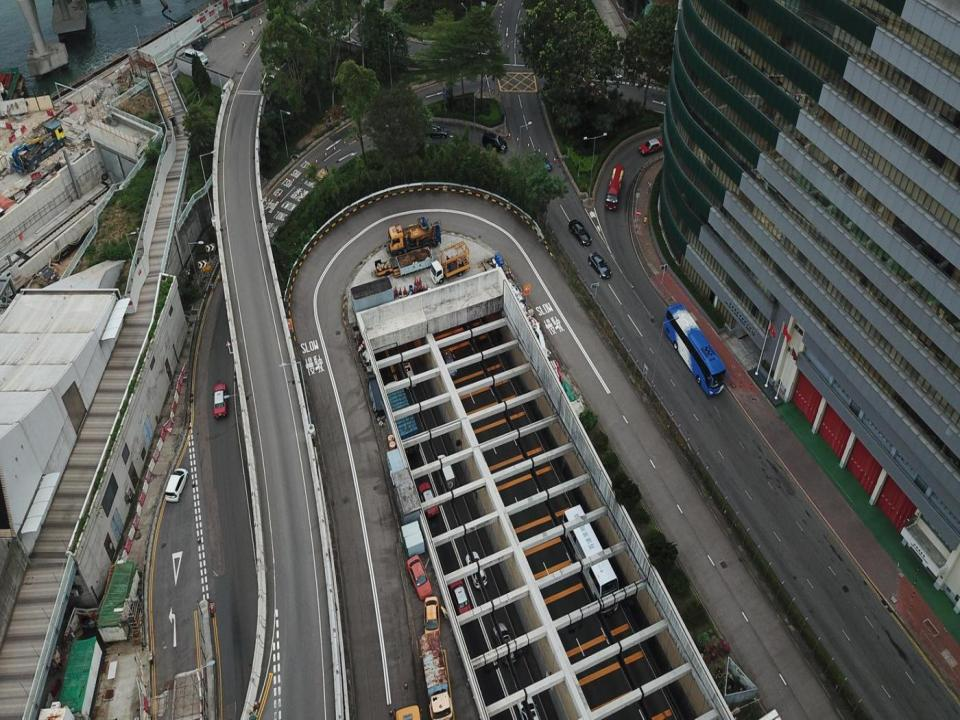bus: (562, 503, 618, 615), (664, 302, 729, 396), (605, 164, 624, 210)
car: (406, 555, 432, 600), (450, 575, 472, 620), (164, 468, 189, 501), (465, 551, 487, 588), (424, 596, 440, 642), (516, 692, 542, 719), (418, 482, 438, 517), (588, 251, 612, 279), (398, 357, 417, 389), (568, 219, 591, 245), (212, 384, 228, 418), (530, 151, 552, 171), (421, 123, 448, 139), (639, 138, 663, 155)
truck: (417, 630, 453, 719), (8, 120, 67, 174), (385, 380, 419, 456), (388, 216, 442, 256), (430, 233, 470, 284), (435, 454, 455, 494)
van: (494, 622, 516, 665), (482, 129, 507, 154), (441, 348, 457, 377), (184, 49, 208, 68)
